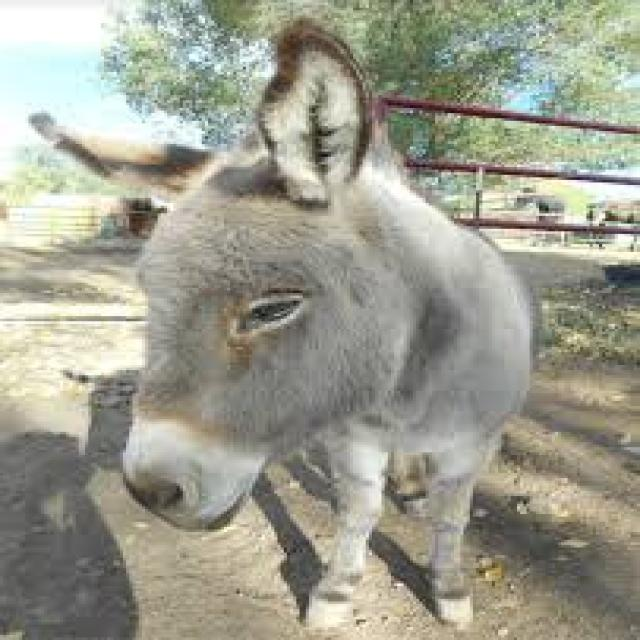Donkey: (15, 8, 550, 640)
